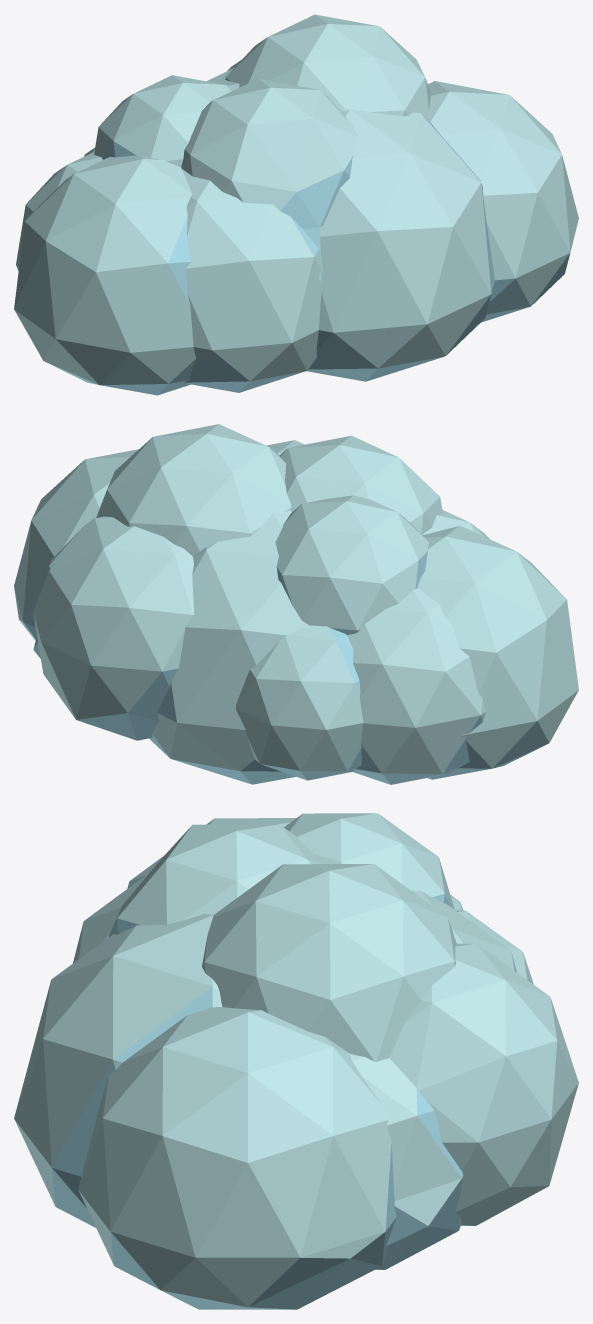
Rendered from cloud.fbx.
3 renders of one model, top to bottom at view 1: azimuth 30°, elevation 25°; view 2: azimuth 150°, elevation 25°; view 3: azimuth 270°, elevation 25°, orthographic. The views are drawn at different scales.
Parts seen in each view (by area): view 1: Icosphere.010; view 2: Icosphere.010; view 3: Icosphere.010.
Part boxes in pixels (bbox=[...]): Icosphere.010: bbox=[14, 14, 578, 395]; Icosphere.010: bbox=[14, 424, 578, 784]; Icosphere.010: bbox=[14, 813, 578, 1309].
Bounding box in the file's own units: 483 × 268 × 357.
